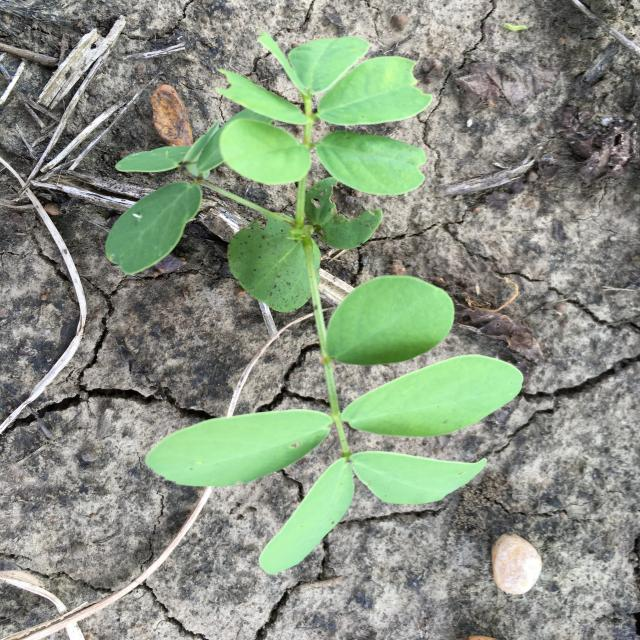Sicklepod: (105, 29, 524, 574)
